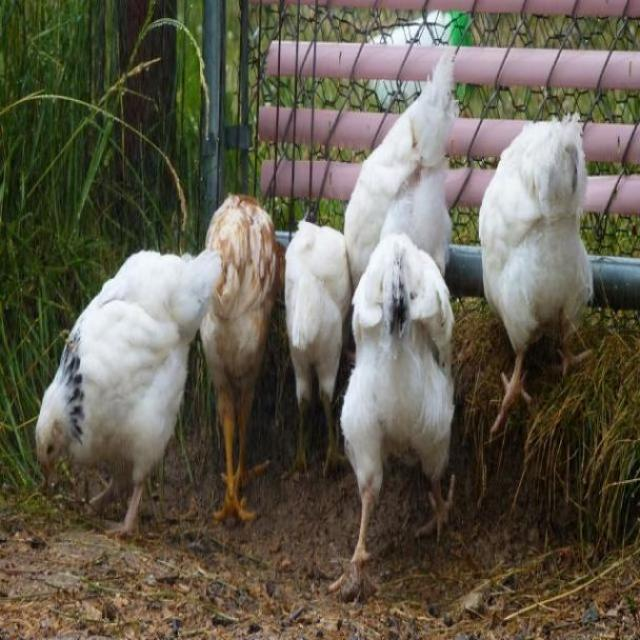Chicken: (36, 247, 220, 540), (321, 233, 458, 603), (475, 118, 598, 448), (338, 47, 464, 276), (202, 197, 286, 532), (277, 206, 354, 501)
